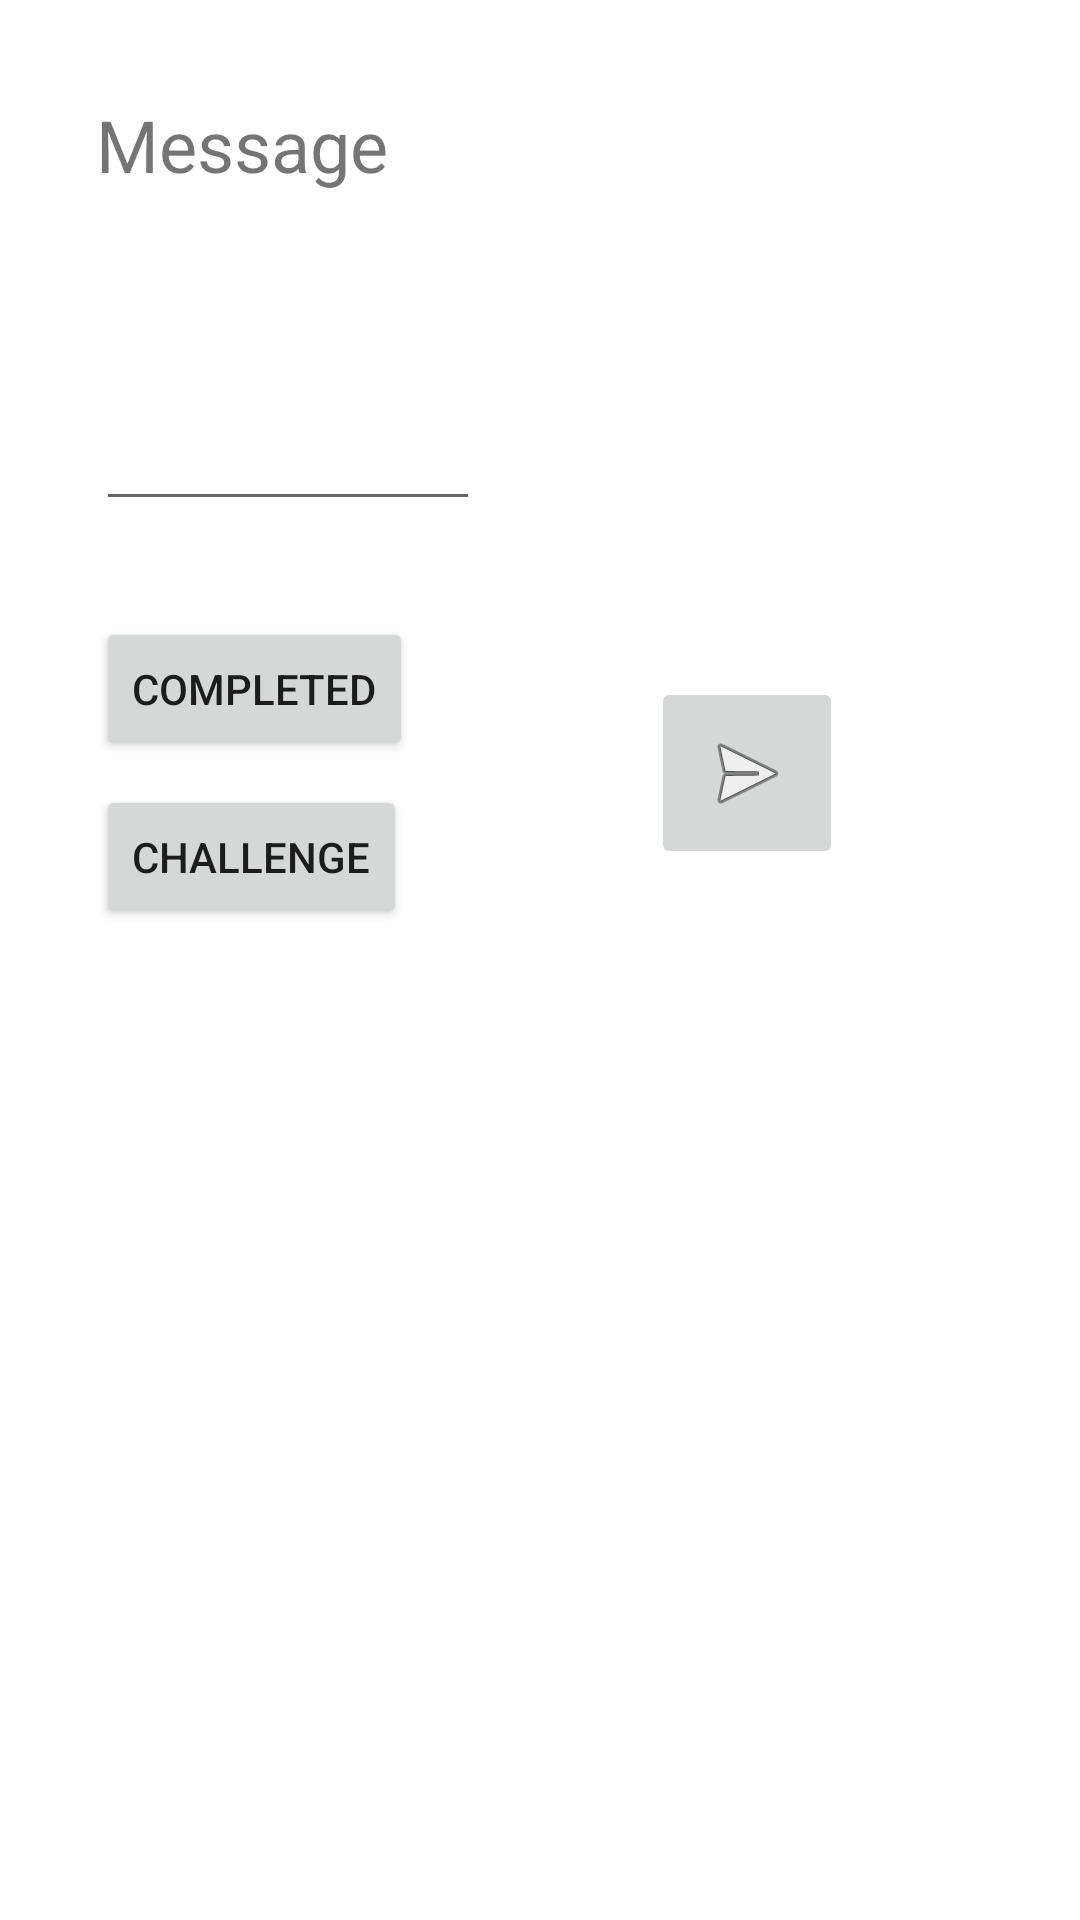

Icons on this 1080w x 1920h Android screen, each with the point to tap as [x,y]:
send: [747,773]
